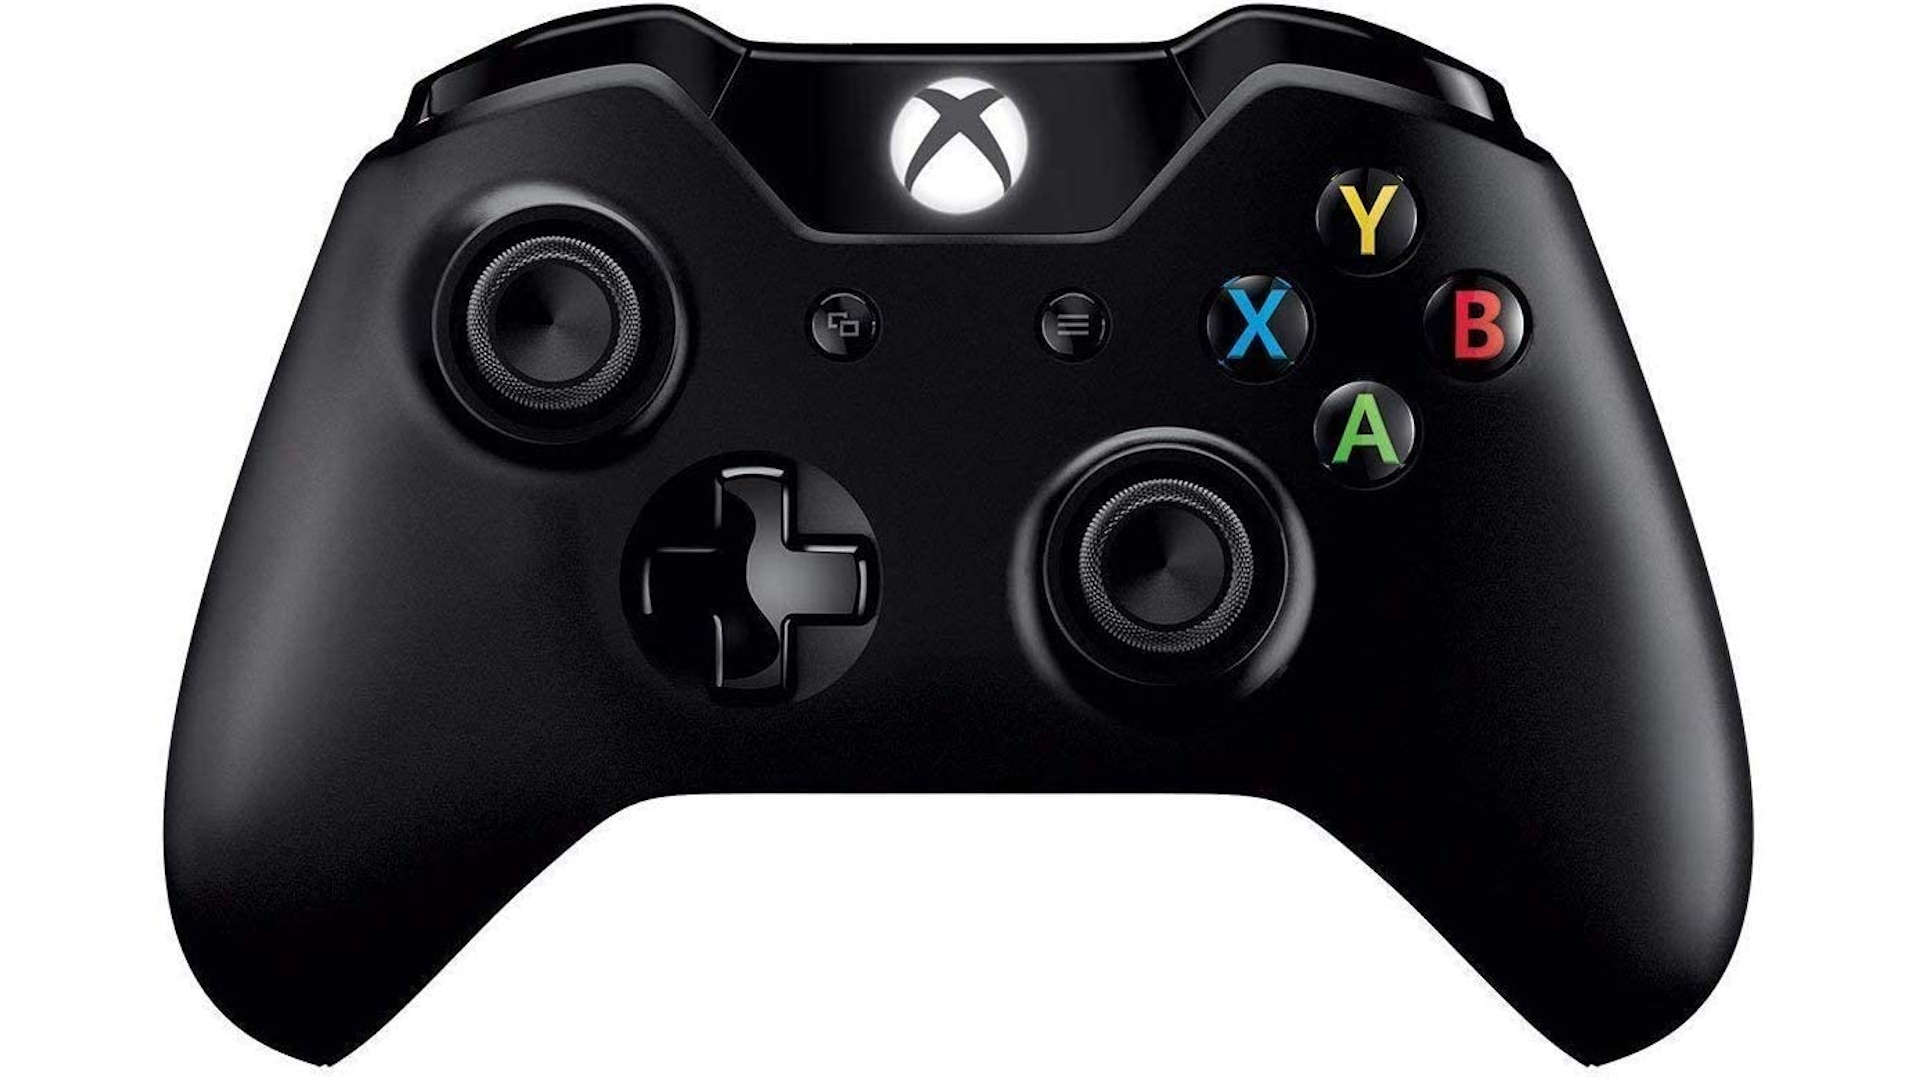controller: (166, 3, 1753, 1065)
